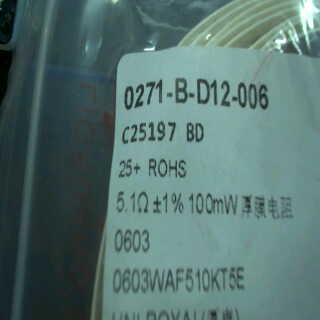5.1R: (114, 187, 148, 218)
